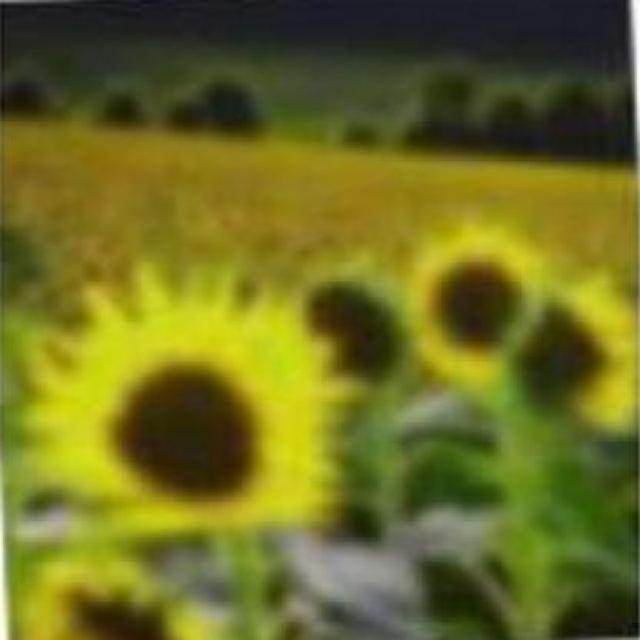sunflower: (29, 275, 337, 527), (408, 217, 533, 379)
